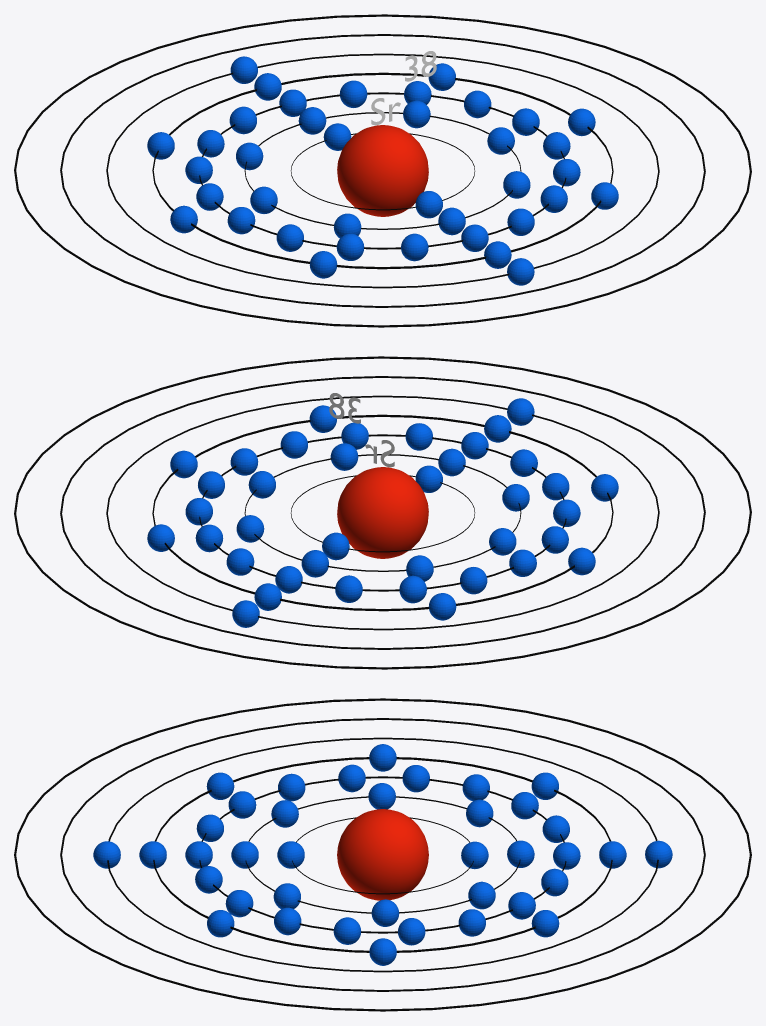
3 views of the same model, one above another, from view 1: azimuth 30°, elevation 25°; view 2: azimuth 150°, elevation 25°; view 3: azimuth 270°, elevation 25° (orthographic).
Parts seen in each view (by area): view 1: Sr3, Proton, Sr4, Sr2, n7, n6, n5, n4, Sr5, Sr1, n3, n2; view 2: Sr3, Proton, Sr4, Sr2, n7, n6, n5, n4, Sr5, Sr1, n3, n2; view 3: Sr3, Proton, Sr4, Sr2, n7, n6, n5, n4, Sr1, Sr5, n3, n2 (+1 smaller).
Part boxes in pixels (x1,y1,x2,y2): Sr3: (185,80,580,261); Proton: (337,125,428,216); Sr4: (147,63,618,278); Sr2: (236,100,530,238); n7: (14,14,751,327); n6: (60,34,705,307); n5: (106,53,659,288); n4: (152,72,613,269); Sr5: (230,56,534,285); Sr1: (323,123,442,218); n3: (199,92,566,249); n2: (244,112,521,229); Sr3: (185,422,580,603); Proton: (337,467,428,558); Sr4: (147,405,618,620); Sr2: (236,443,529,581); n7: (14,356,751,669); n6: (60,376,705,649); n5: (106,395,659,630); n4: (152,414,613,611); Sr5: (232,398,534,627); Sr1: (322,465,442,560); n3: (199,434,566,591); n2: (244,454,521,571); Sr3: (185,764,580,945); Proton: (337,809,428,900); Sr4: (139,744,626,965); Sr2: (231,783,534,926); n7: (14,698,751,1011); n6: (60,718,705,991); n5: (107,737,658,972); n4: (153,757,612,952); Sr1: (277,841,488,869); Sr5: (93,840,672,868); n3: (199,776,566,933); n2: (245,796,520,913).
Bounding box in the file's own units: 802 × 180 × 802.
